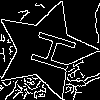H: (19, 25, 78, 74)
